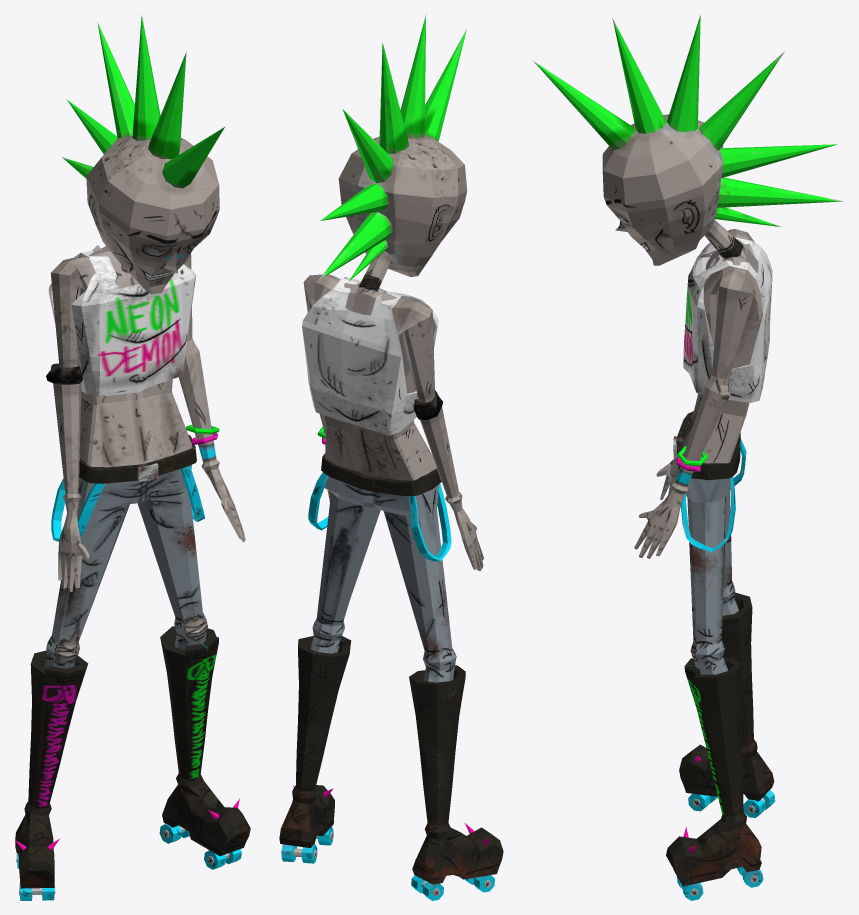
Rendered from punkAnimation_000002.obj.
3 views of the same model, side by side, from view 1: azimuth 30°, elevation 25°; view 2: azimuth 150°, elevation 25°; view 3: azimuth 270°, elevation 25° (orthographic). The views are drawn at different scales.
Parts seen in each view (by area): view 1: Cube.004_Cube.003; view 2: Cube.004_Cube.003; view 3: Cube.004_Cube.003.
Boxes of the visible parts, bbox=[...] form: Cube.004_Cube.003: bbox=[15, 15, 250, 900]; Cube.004_Cube.003: bbox=[279, 14, 503, 900]; Cube.004_Cube.003: bbox=[533, 15, 842, 900].
Size of the model in its own units: 2 by 7.5 by 2.51.
